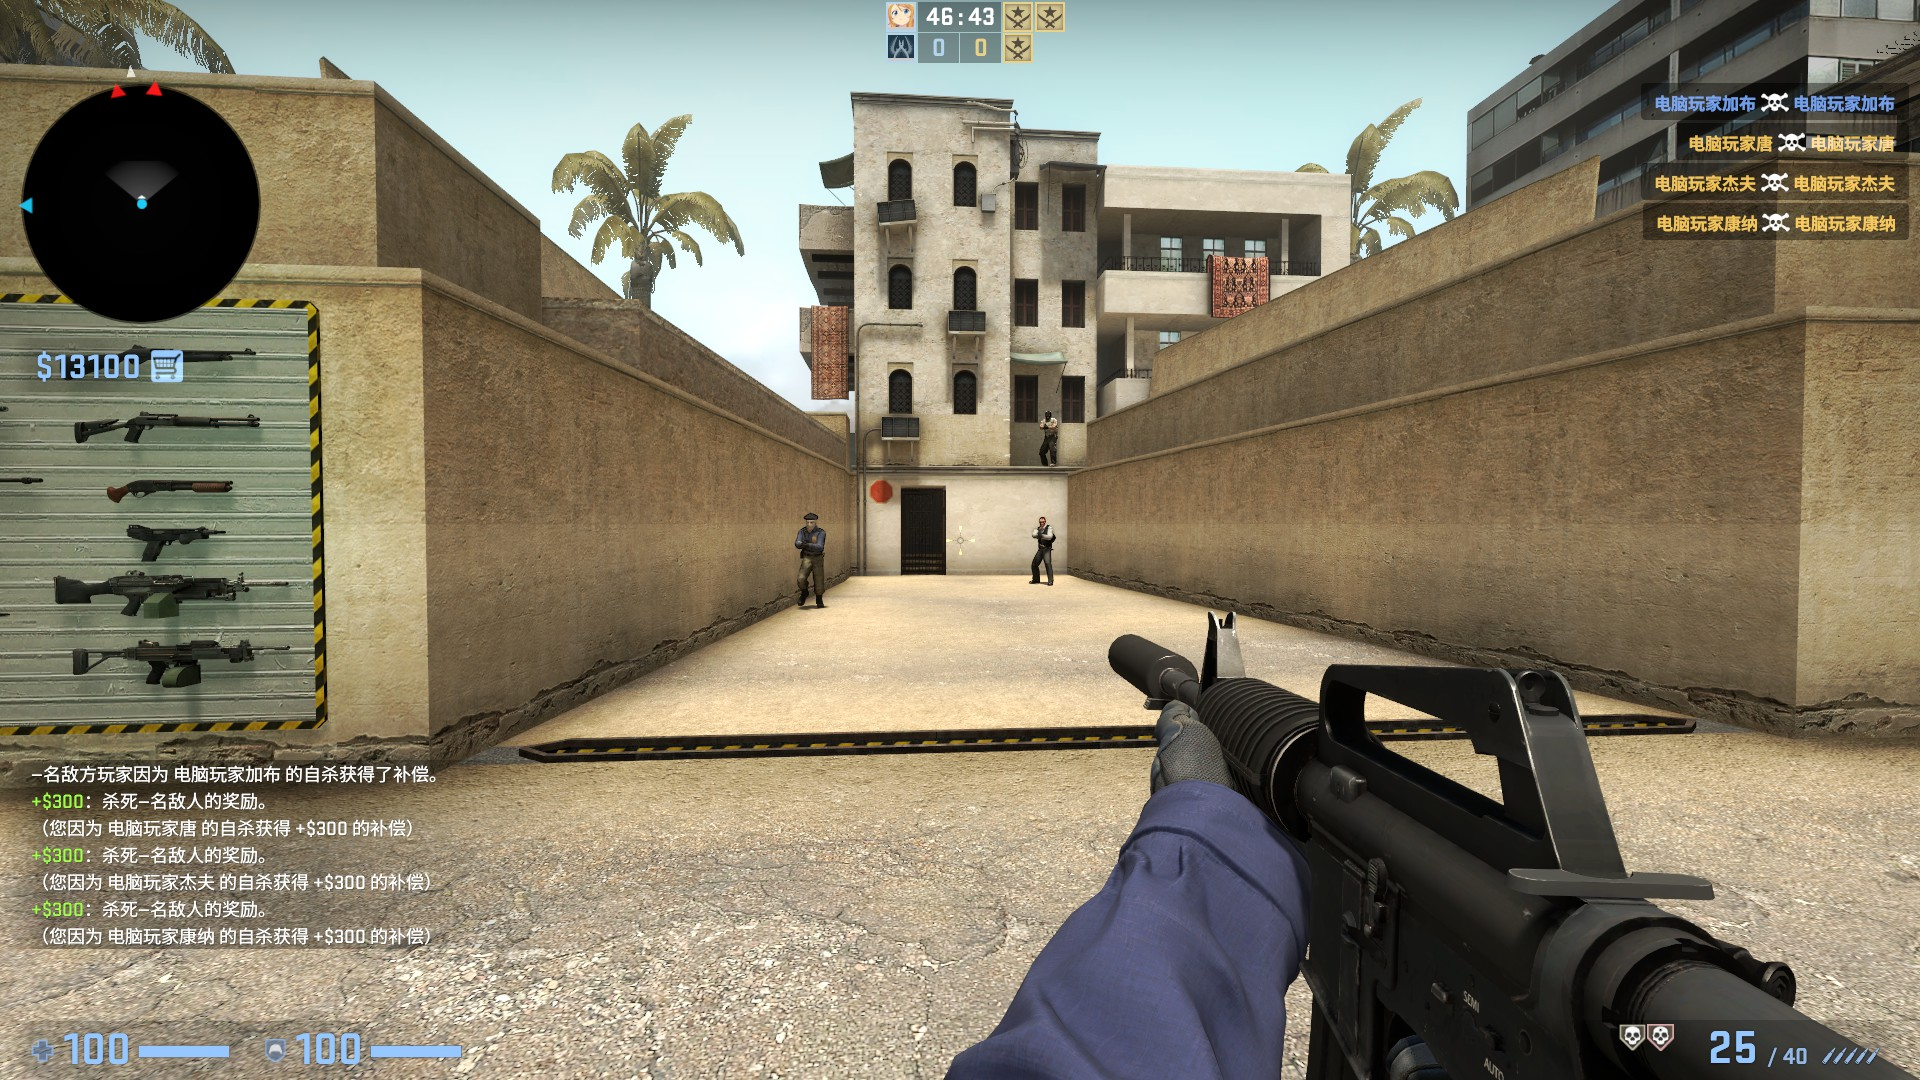head: (801, 511, 818, 530), (1043, 409, 1051, 421), (1037, 516, 1045, 526)
